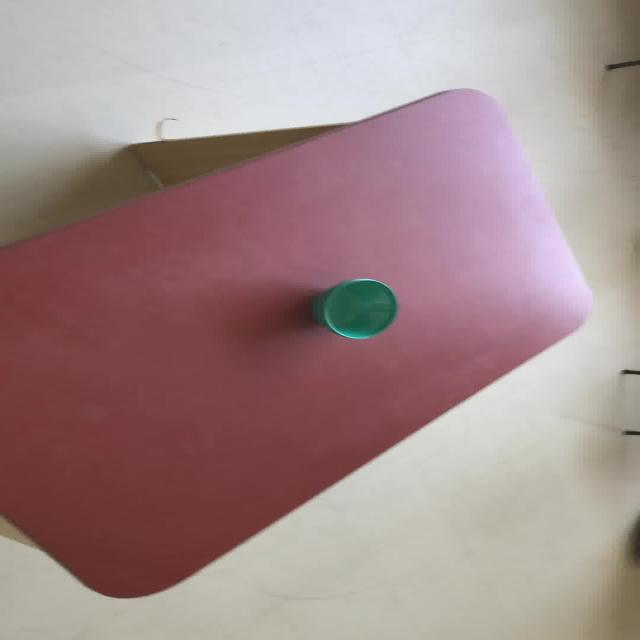bowl: (1, 86, 593, 598), (310, 277, 399, 340)
